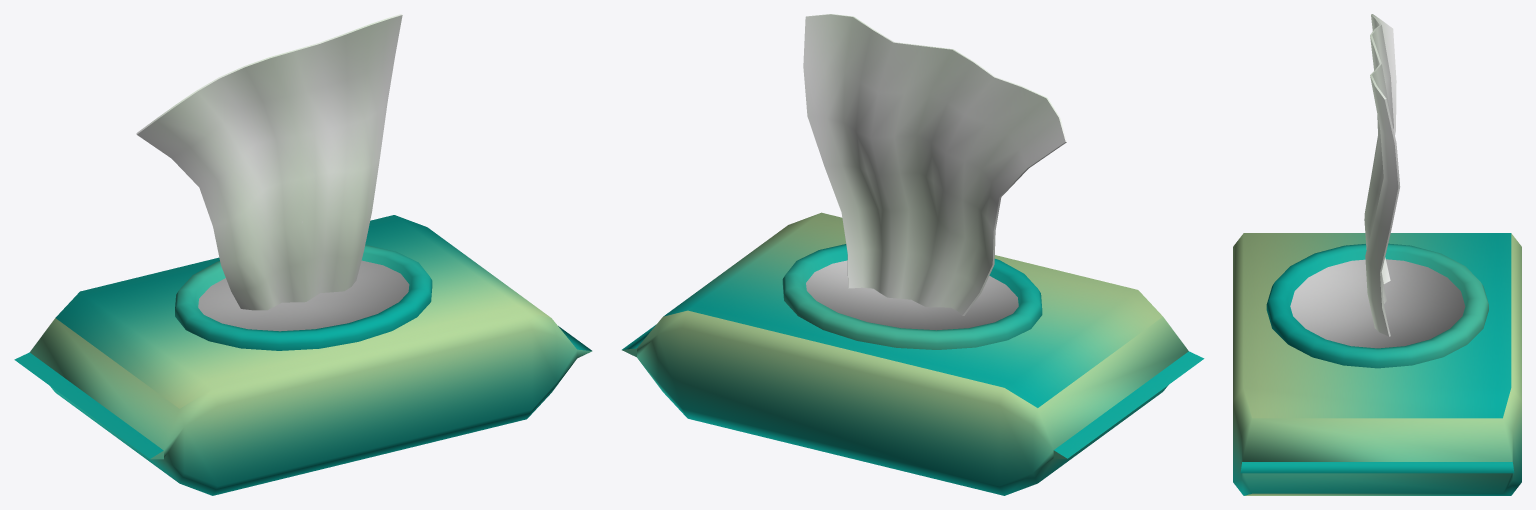
The model's file is Flushable Wipes_V1.FBX.
3 views of the same model, side by side, from view 1: azimuth 30°, elevation 25°; view 2: azimuth 150°, elevation 25°; view 3: azimuth 270°, elevation 25° (orthographic).
Visible parts, largest first — view 1: Flushable Wipes; view 2: Flushable Wipes; view 3: Flushable Wipes.
Boxes of the visible parts, x1,y1,x2,y2 form: Flushable Wipes: (14, 14, 592, 495); Flushable Wipes: (622, 14, 1204, 495); Flushable Wipes: (1233, 14, 1521, 495).
Bounding box in the file's own units: 74.04 × 59.32 × 41.5.
Materials: 1 (1 with a texture image).
